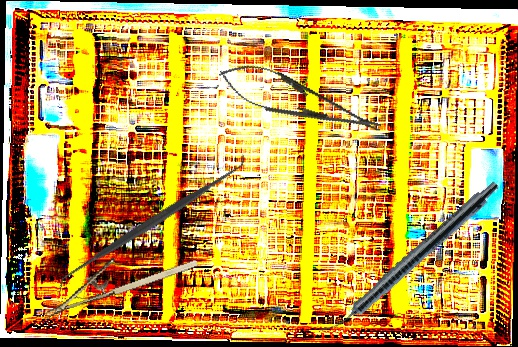Handpiece: (317, 174, 504, 345)
Needle Holder: (212, 53, 388, 149), (34, 234, 200, 319)
Spatula Surgical: (46, 151, 256, 296)
